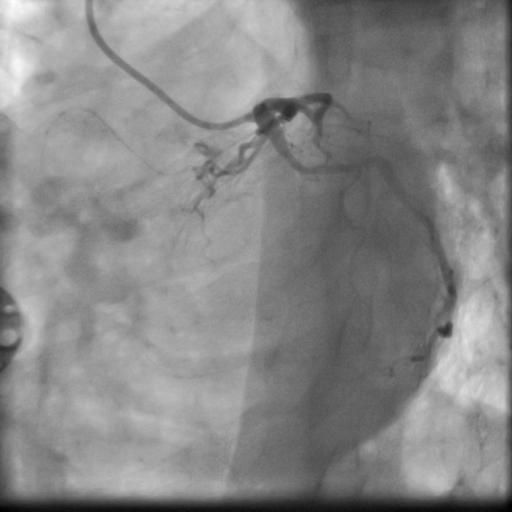Stenosis: (392, 189, 427, 221)
